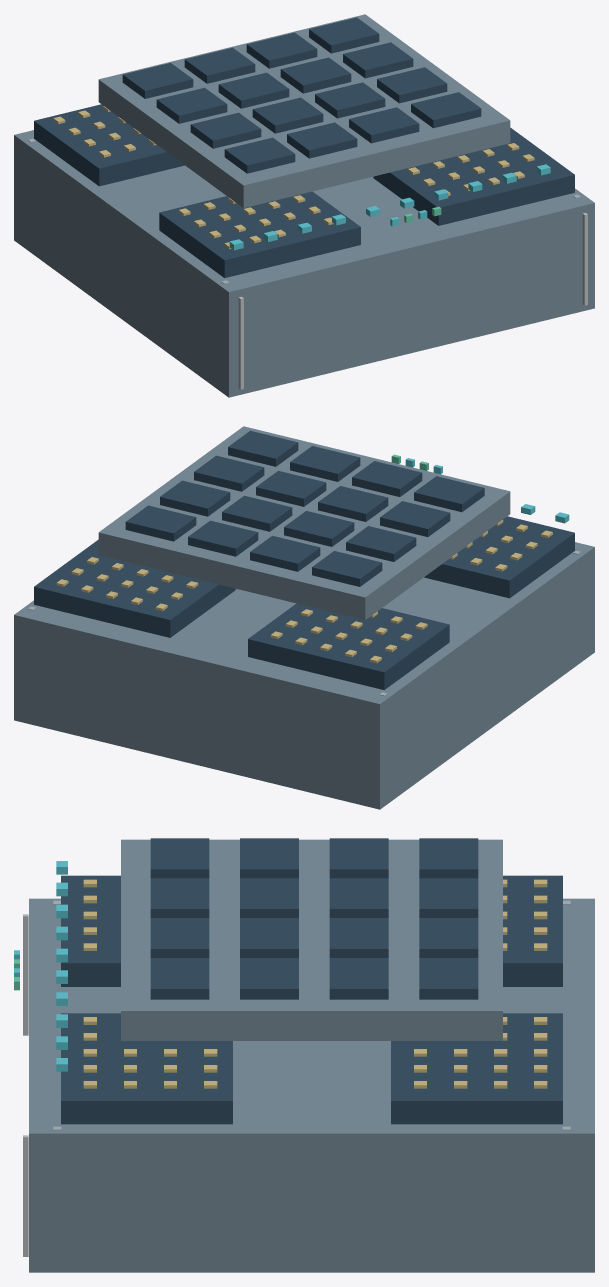
File: 05_L79_PrecisionChipletTray.glb
3 renders of one model, top to bottom at view 1: azimuth 30°, elevation 25°; view 2: azimuth 150°, elevation 25°; view 3: azimuth 270°, elevation 25°, orthographic. The views are drawn at different scales.
Parts seen in each view (by area): view 1: PrecisionChipletTray_Node_0000, PrecisionChipletTray_Node_0101, PrecisionChipletTray_Node_0028, PrecisionChipletTray_Node_0070, PrecisionChipletTray_Node_0007, PrecisionChipletTray_Node_0104, PrecisionChipletTray_Node_0106, PrecisionChipletTray_Node_0108, PrecisionChipletTray_Node_0103, PrecisionChipletTray_Node_0107, PrecisionChipletTray_Node_0110, PrecisionChipletTray_Node_0111 (+11 smaller); view 2: PrecisionChipletTray_Node_0000, PrecisionChipletTray_Node_0101, PrecisionChipletTray_Node_0007, PrecisionChipletTray_Node_0049, PrecisionChipletTray_Node_0028, PrecisionChipletTray_Node_0114, PrecisionChipletTray_Node_0106, PrecisionChipletTray_Node_0107, PrecisionChipletTray_Node_0110, PrecisionChipletTray_Node_0115, PrecisionChipletTray_Node_0111, PrecisionChipletTray_Node_0112 (+9 smaller); view 3: PrecisionChipletTray_Node_0000, PrecisionChipletTray_Node_0101, PrecisionChipletTray_Node_0049, PrecisionChipletTray_Node_0070, PrecisionChipletTray_Node_0007, PrecisionChipletTray_Node_0028, PrecisionChipletTray_Node_0114, PrecisionChipletTray_Node_0115, PrecisionChipletTray_Node_0117, PrecisionChipletTray_Node_0116, PrecisionChipletTray_Node_0102, PrecisionChipletTray_Node_0103 (+12 smaller).
Part boxes in pixels (<box>): PrecisionChipletTray_Node_0000: <box>14,130,594,397</box>; PrecisionChipletTray_Node_0101: <box>98,14,510,208</box>; PrecisionChipletTray_Node_0028: <box>159,191,360,277</box>; PrecisionChipletTray_Node_0070: <box>373,127,574,225</box>; PrecisionChipletTray_Node_0007: <box>34,104,184,186</box>; PrecisionChipletTray_Node_0104: <box>190,112,261,148</box>; PrecisionChipletTray_Node_0106: <box>184,47,255,83</box>; PrecisionChipletTray_Node_0108: <box>252,97,323,133</box>; PrecisionChipletTray_Node_0103: <box>156,87,227,123</box>; PrecisionChipletTray_Node_0107: <box>218,72,289,108</box>; PrecisionChipletTray_Node_0110: <box>246,32,317,68</box>; PrecisionChipletTray_Node_0111: <box>280,57,351,93</box>; PrecisionChipletTray_Node_0000: <box>14,542,594,809</box>; PrecisionChipletTray_Node_0101: <box>98,426,510,620</box>; PrecisionChipletTray_Node_0007: <box>248,603,449,689</box>; PrecisionChipletTray_Node_0049: <box>34,539,235,637</box>; PrecisionChipletTray_Node_0028: <box>424,516,574,598</box>; PrecisionChipletTray_Node_0114: <box>125,505,196,541</box>; PrecisionChipletTray_Node_0106: <box>250,535,320,571</box>; PrecisionChipletTray_Node_0107: <box>284,511,354,546</box>; PrecisionChipletTray_Node_0110: <box>188,520,258,556</box>; PrecisionChipletTray_Node_0115: <box>160,480,230,516</box>; PrecisionChipletTray_Node_0111: <box>222,495,292,531</box>; PrecisionChipletTray_Node_0112: <box>256,471,326,506</box>; PrecisionChipletTray_Node_0000: <box>29,898,594,1272</box>; PrecisionChipletTray_Node_0101: <box>121,839,502,1040</box>; PrecisionChipletTray_Node_0049: <box>391,1013,562,1124</box>; PrecisionChipletTray_Node_0070: <box>61,1013,232,1124</box>; PrecisionChipletTray_Node_0007: <box>503,875,562,986</box>; PrecisionChipletTray_Node_0028: <box>61,875,120,986</box>; PrecisionChipletTray_Node_0114: <box>419,958,478,999</box>; PrecisionChipletTray_Node_0115: <box>329,958,388,999</box>; PrecisionChipletTray_Node_0117: <box>150,958,209,999</box>; PrecisionChipletTray_Node_0116: <box>240,958,298,999</box>; PrecisionChipletTray_Node_0102: <box>419,838,478,878</box>; PrecisionChipletTray_Node_0103: <box>329,838,388,878</box>.
Bounding box in the file's own units: 2.36 × 1.13 × 2.46.
